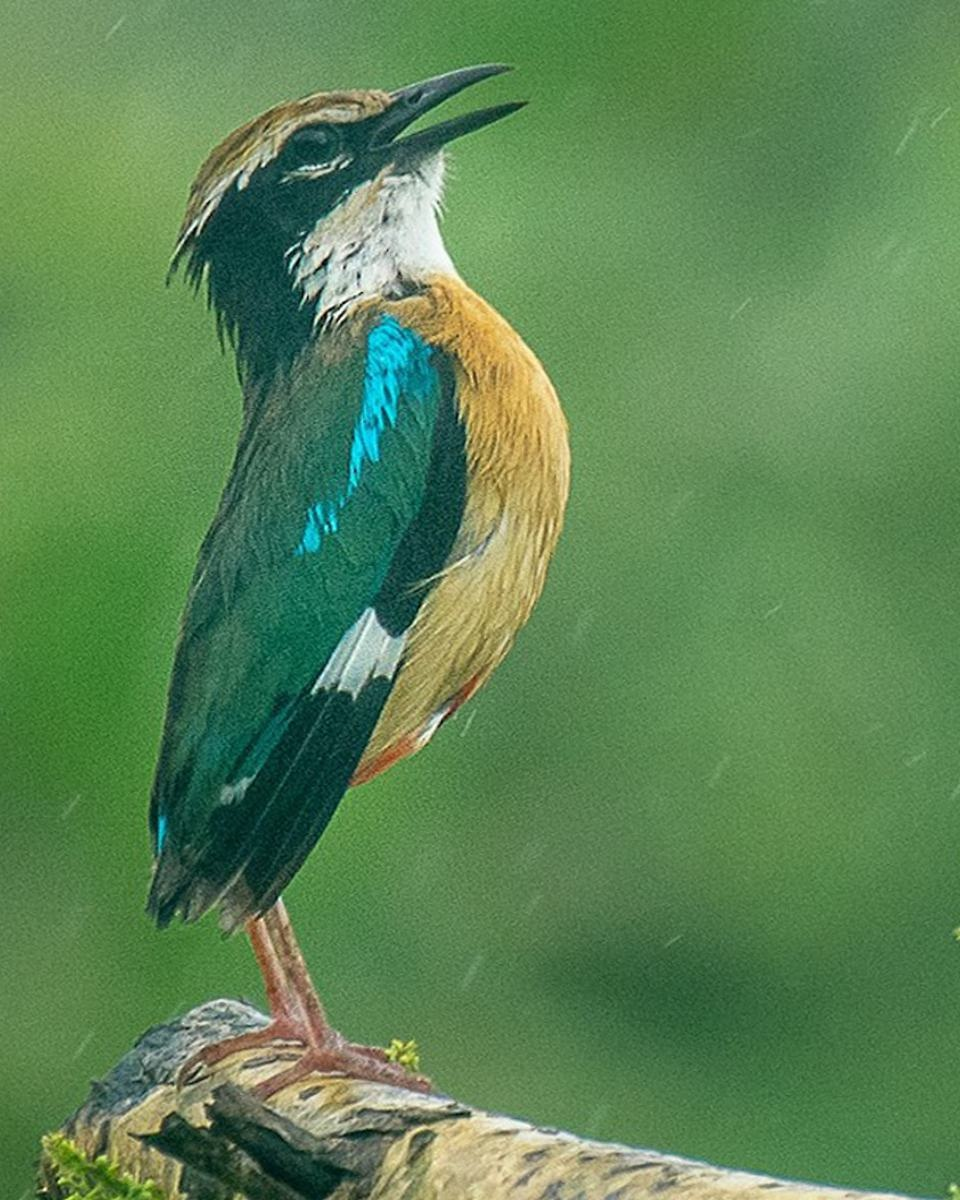pitta: (1, 18, 622, 1192)
